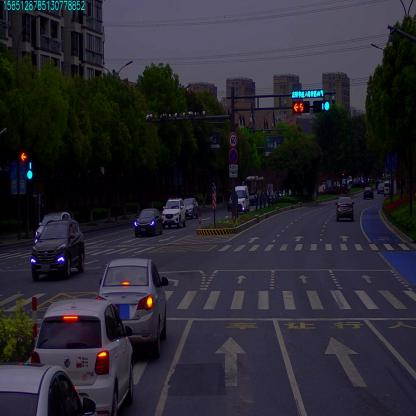traffic-light: (291, 88, 324, 99), (292, 102, 310, 114), (313, 100, 330, 108)
